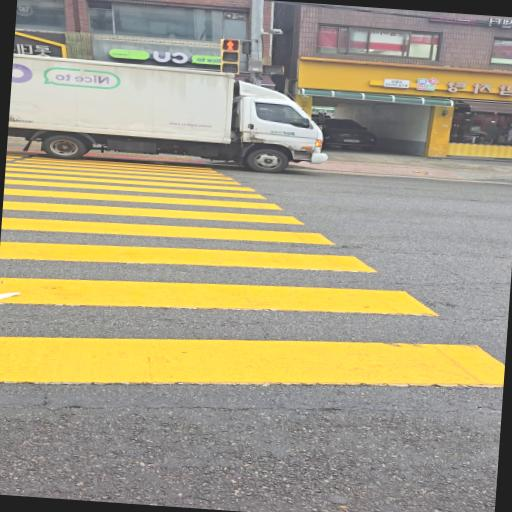yellow-crosswalk: (0, 143, 512, 424)
